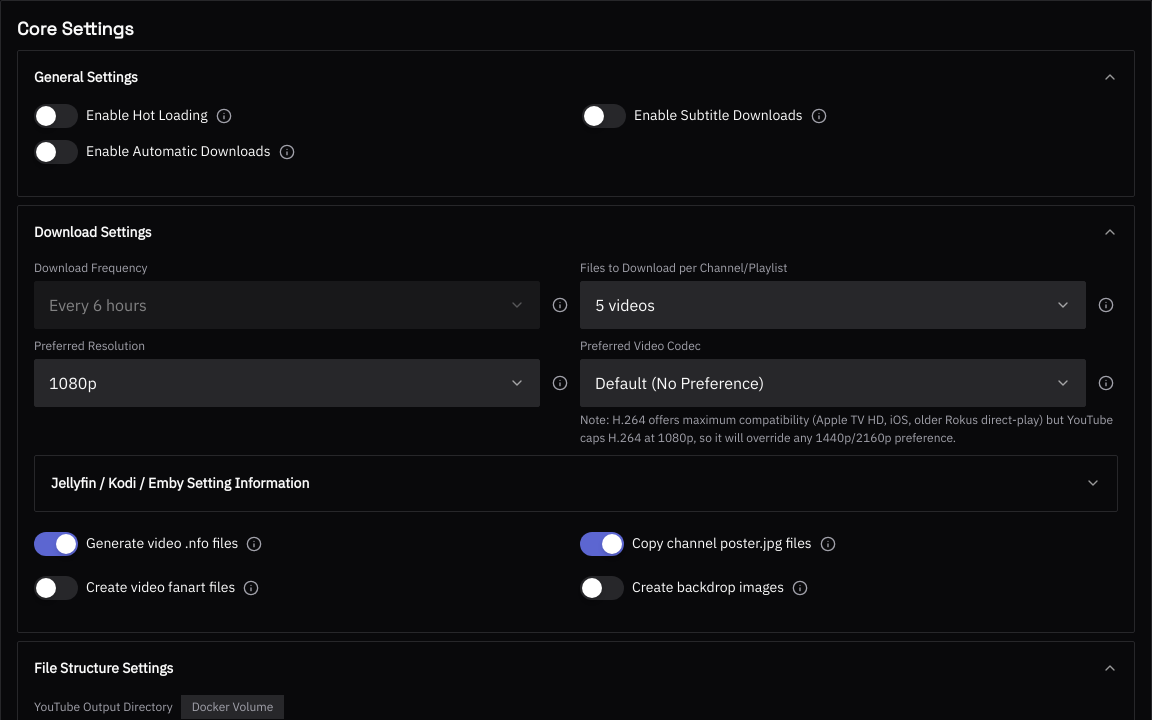
Test case: CoreSettingsSection Component › Preferred Resolution Select › displays all resolution options
Click the button "1080p".
click(73, 383)  # box [34, 359, 540, 407]
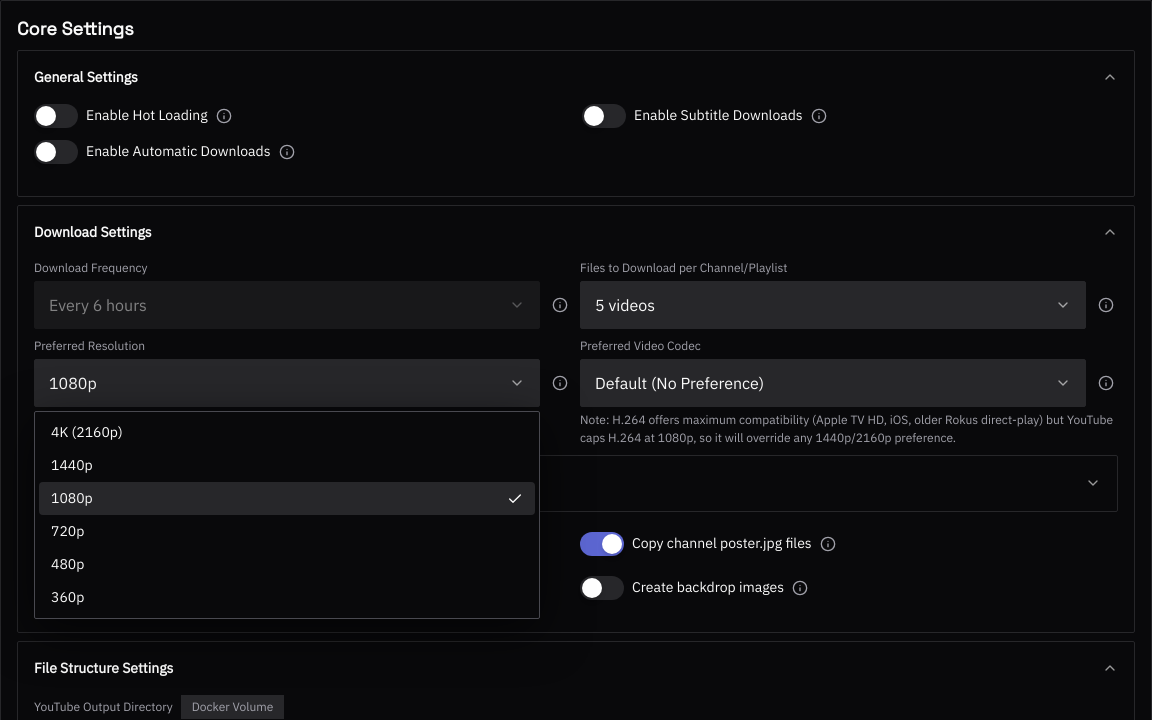
Result: the option "4K (2160p)" is shown at [51, 423, 123, 441]
Result: the option "1440p" is shown at [51, 456, 93, 474]
Result: the option "1080p" is shown at [39, 482, 535, 515]
